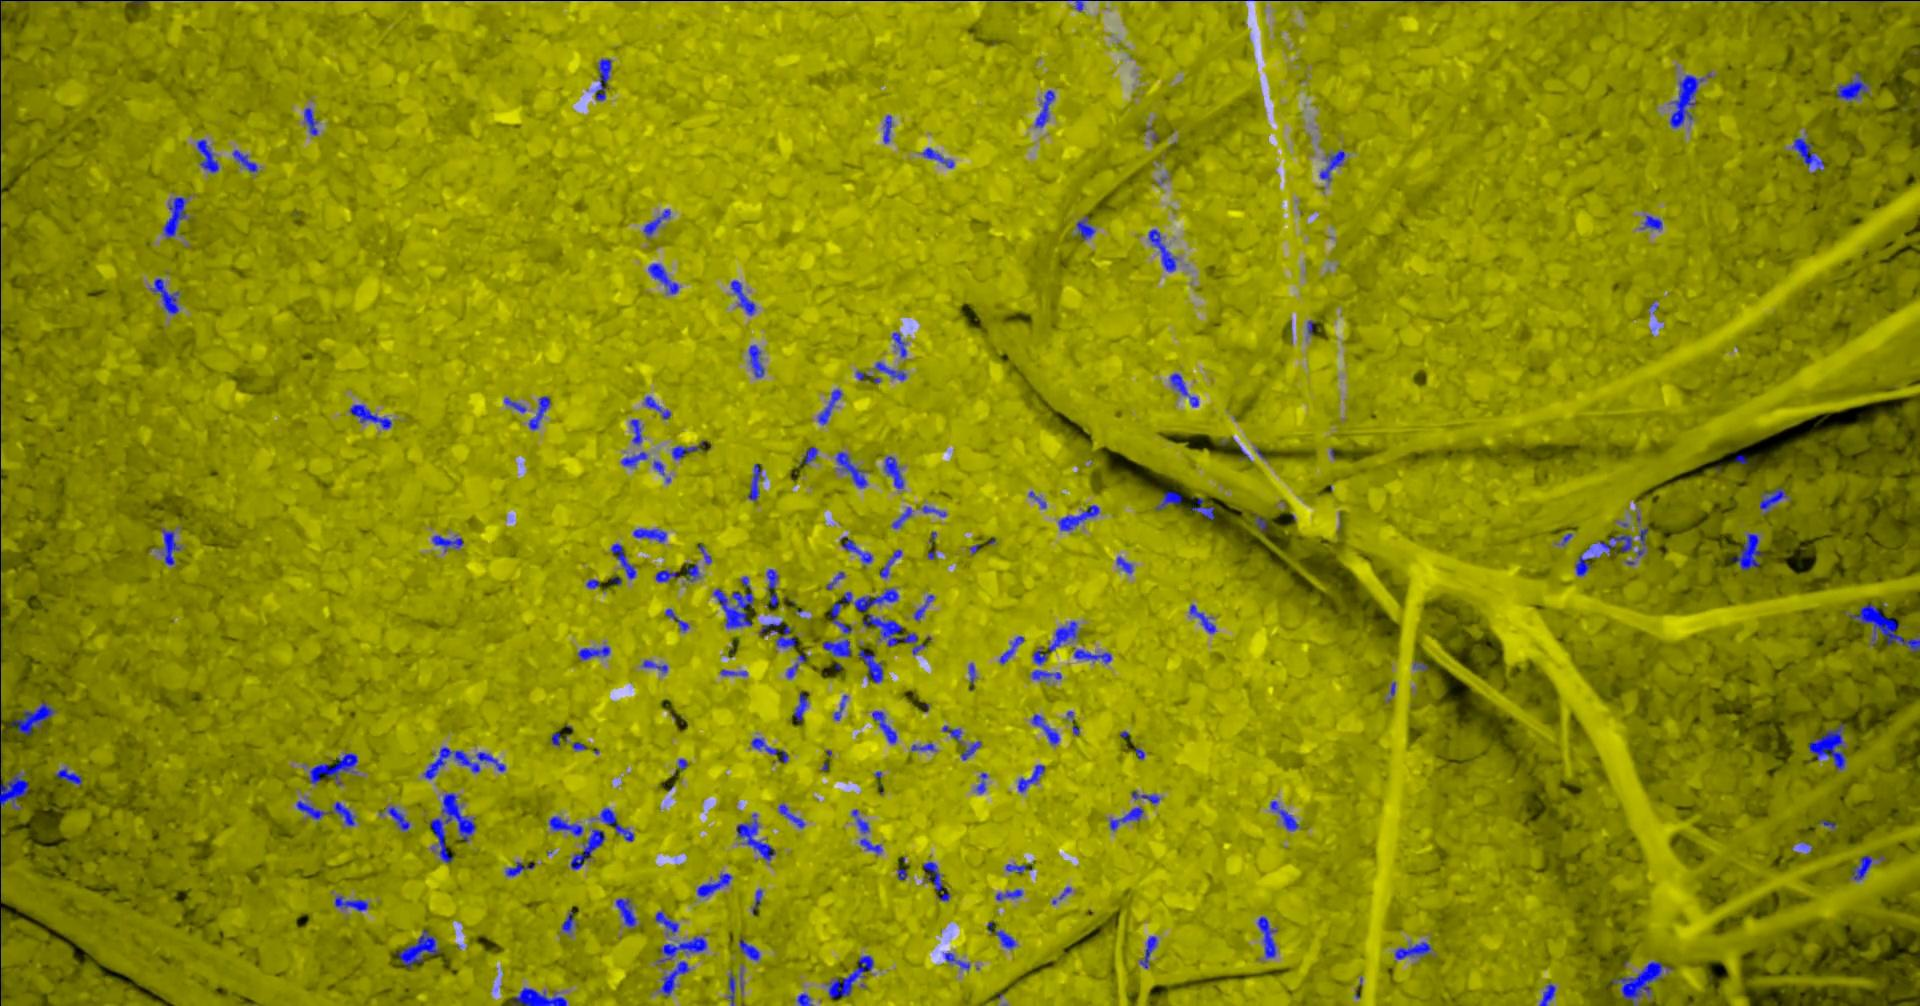ant: (1848, 603, 1919, 652), (0, 730, 28, 846), (829, 587, 898, 633), (430, 793, 475, 862), (422, 746, 505, 779), (1611, 960, 1671, 1005), (862, 614, 924, 654), (712, 575, 753, 627), (1669, 74, 1704, 128), (1032, 621, 1077, 664), (828, 955, 872, 997), (735, 813, 775, 860), (1808, 723, 1845, 768), (397, 929, 439, 968), (9, 700, 55, 735), (309, 752, 357, 784), (570, 828, 604, 869), (657, 936, 706, 962), (1148, 229, 1177, 271), (1731, 533, 1763, 570), (599, 807, 632, 841), (836, 451, 867, 486), (922, 861, 950, 901), (1790, 137, 1823, 170), (660, 960, 690, 997), (349, 404, 391, 429), (1057, 504, 1098, 530), (150, 278, 179, 312), (510, 987, 566, 1005), (857, 644, 883, 682), (1835, 71, 1868, 100), (163, 196, 185, 238), (610, 542, 635, 579), (758, 621, 795, 647), (750, 737, 787, 762), (648, 263, 678, 293), (1170, 373, 1197, 406), (730, 279, 756, 315), (817, 387, 841, 424), (696, 873, 731, 897), (1269, 800, 1298, 829), (1031, 714, 1059, 744), (841, 536, 872, 563), (871, 710, 897, 743), (1319, 149, 1345, 180), (1851, 855, 1883, 880), (196, 138, 218, 173), (1109, 807, 1143, 829), (985, 921, 1015, 948), (1594, 533, 1632, 554), (1034, 90, 1054, 127), (160, 528, 180, 565), (1189, 605, 1215, 633), (1017, 763, 1044, 791), (1257, 916, 1275, 958), (528, 395, 550, 429), (643, 210, 670, 235), (1759, 486, 1787, 512), (998, 635, 1023, 663), (1394, 941, 1431, 959), (670, 439, 705, 459), (883, 456, 903, 488), (596, 58, 611, 100), (879, 549, 902, 577), (549, 815, 582, 835), (778, 803, 804, 827), (747, 464, 763, 500), (921, 147, 952, 166), (874, 361, 905, 380), (296, 800, 328, 819), (615, 898, 636, 926), (1139, 935, 1157, 968), (331, 801, 356, 826), (383, 807, 409, 829), (644, 396, 670, 418), (232, 149, 257, 171), (664, 608, 688, 631), (654, 911, 678, 934), (430, 535, 463, 551), (1073, 649, 1111, 663), (1191, 497, 1214, 520), (1575, 546, 1592, 575), (1156, 490, 1181, 511), (913, 594, 933, 620), (739, 935, 759, 960), (748, 344, 763, 377), (766, 568, 778, 606), (943, 951, 969, 970), (822, 639, 851, 655), (504, 861, 535, 876), (632, 528, 665, 542), (577, 645, 610, 659), (334, 895, 367, 909), (1076, 215, 1095, 239), (786, 654, 805, 678), (792, 692, 808, 721), (55, 767, 81, 784), (891, 507, 912, 528), (851, 809, 869, 833), (620, 451, 648, 466), (303, 107, 317, 135), (891, 332, 907, 357), (960, 741, 980, 760), (1538, 983, 1556, 1005), (833, 694, 847, 720), (561, 909, 577, 934), (1636, 525, 1647, 556), (858, 838, 881, 854), (825, 572, 844, 589), (942, 725, 961, 743), (996, 888, 1022, 901), (629, 419, 641, 445), (503, 398, 526, 412), (1131, 791, 1159, 803), (1031, 669, 1062, 680), (643, 659, 667, 672), (800, 446, 817, 464), (726, 972, 735, 1005), (750, 889, 762, 915), (1641, 215, 1661, 229), (655, 569, 677, 582), (684, 563, 700, 580), (1116, 556, 1131, 573), (883, 116, 891, 144), (921, 506, 945, 516), (975, 772, 987, 793), (1004, 862, 1027, 873), (1255, 514, 1266, 532), (910, 742, 935, 749), (968, 662, 974, 690), (796, 993, 811, 1005), (720, 669, 747, 676), (0, 594, 1, 663)
